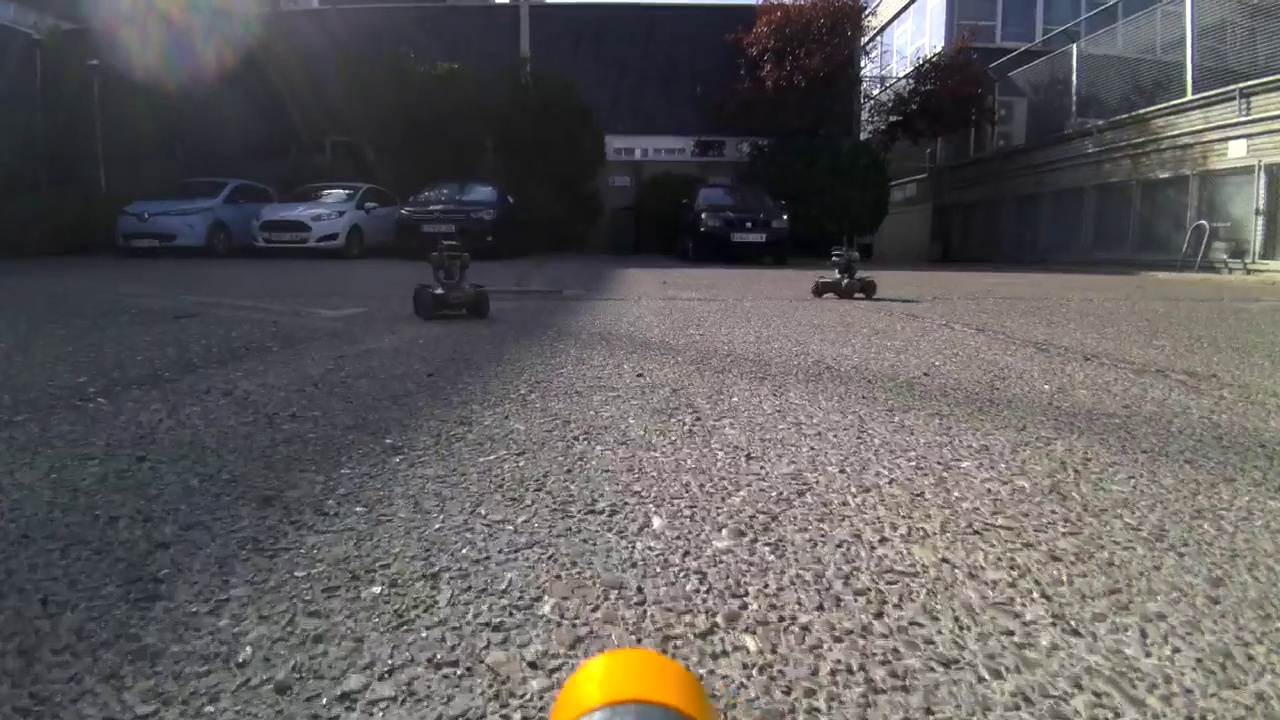robot: (409, 237, 495, 328), (805, 234, 883, 300)
